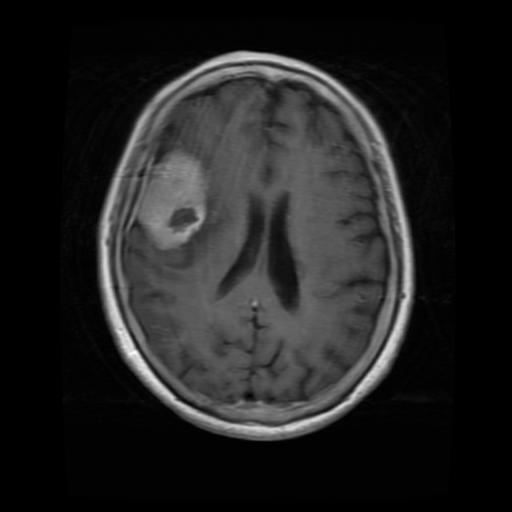Menigiomia_tumour: (136, 149, 206, 248)
